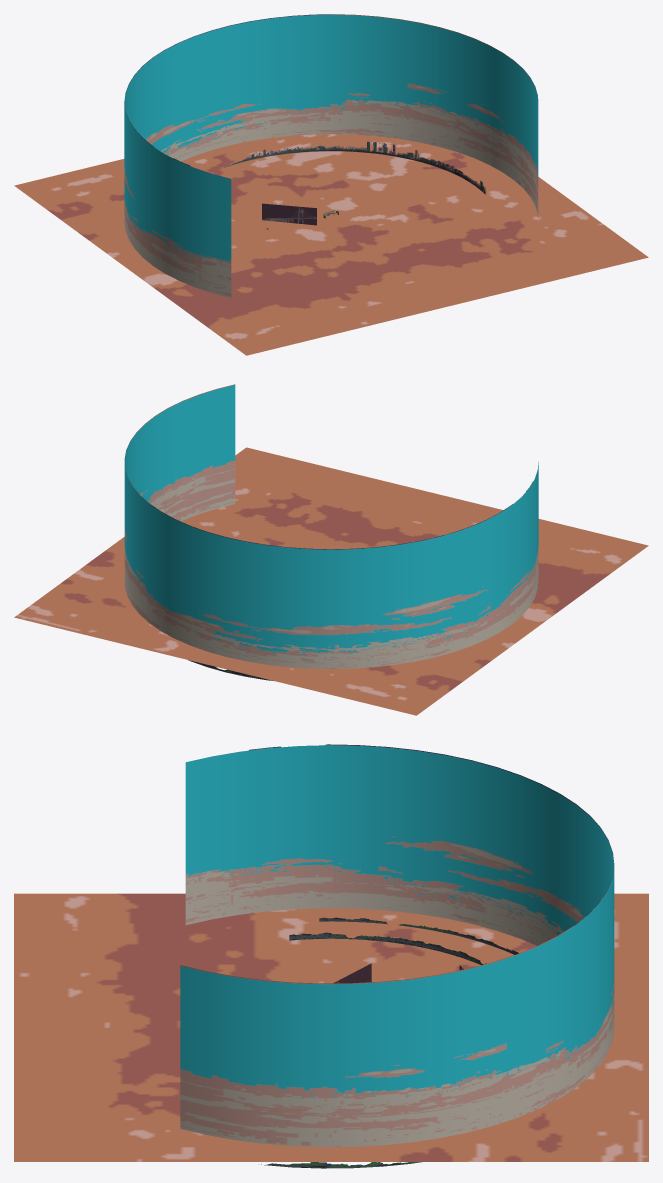
File: parananana2.fbx
3 renders of one model, top to bottom at view 1: azimuth 30°, elevation 25°; view 2: azimuth 150°, elevation 25°; view 3: azimuth 270°, elevation 25°, orthographic. The views are drawn at different scales.
Parts seen in each view (by area): view 1: Plane.003, Grid.001, Plane.015, Plane.021; view 2: Grid.001, Plane.003; view 3: Grid.001, Plane.003, Plane.024, Plane.020.
Boxes of the visible parts, x1,y1,x2,y2 form: Plane.003: [14, 134, 648, 355]; Grid.001: [124, 14, 538, 297]; Plane.015: [224, 141, 485, 194]; Plane.021: [262, 203, 316, 225]; Grid.001: [124, 384, 538, 680]; Plane.003: [14, 447, 648, 715]; Grid.001: [180, 744, 614, 1168]; Plane.003: [14, 893, 648, 1161]; Plane.024: [289, 932, 486, 964]; Plane.020: [319, 917, 518, 954].
Bounding box in the file's own units: 39765 × 12786 × 39765.
